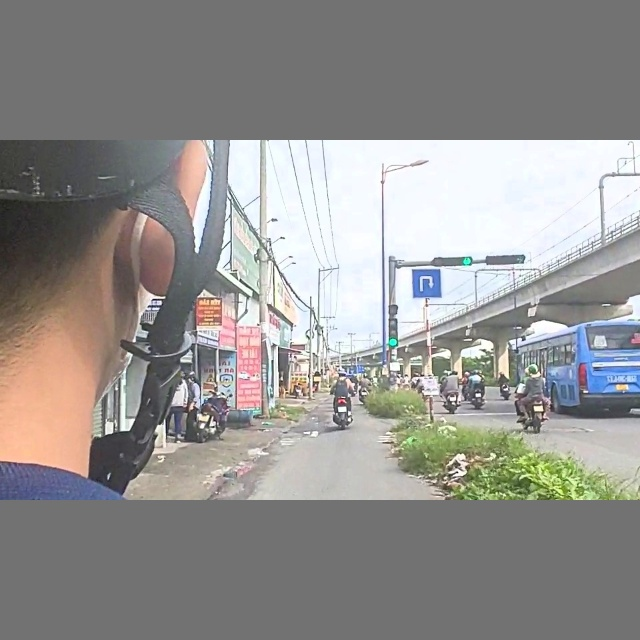I.409: (409, 268, 443, 301)
